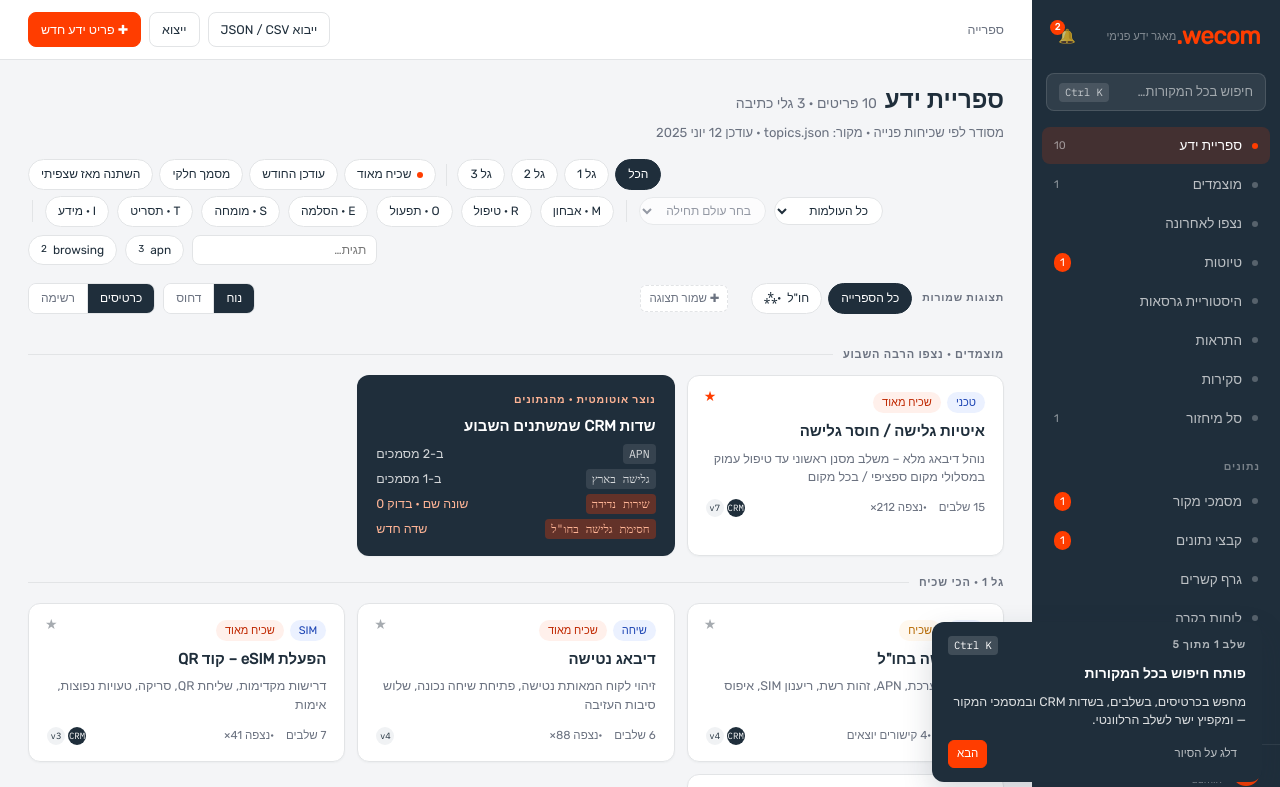
it: <Palette> result rows › renders the library card’s chips on a hit, and no ingest filename anywhere
Type keys "{Control>}k{/Control}"
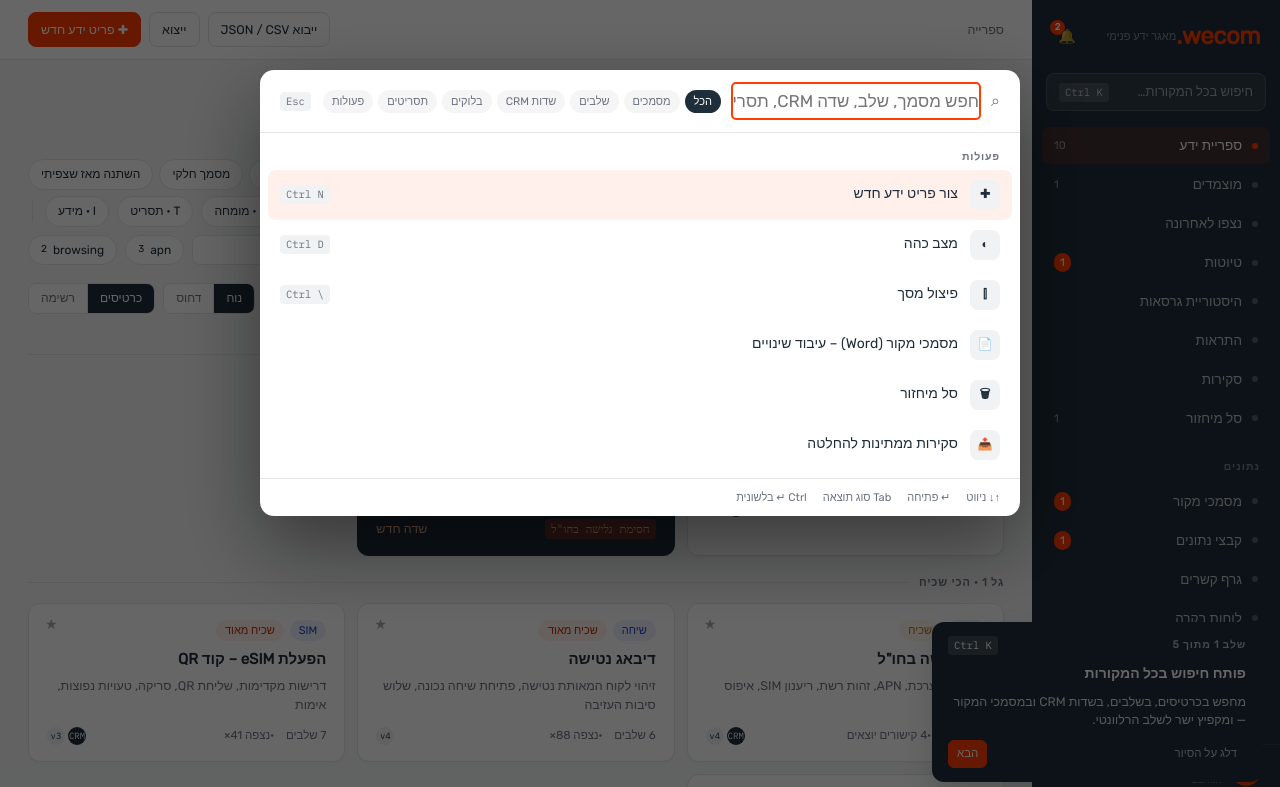
Type "ריענון sim" into the field with placeholder "חפש מסמך, שלב, שדה CRM, תסריט או פעולה…". click: x=856, y=101
box: x1=733 y1=84 x2=979 y2=118
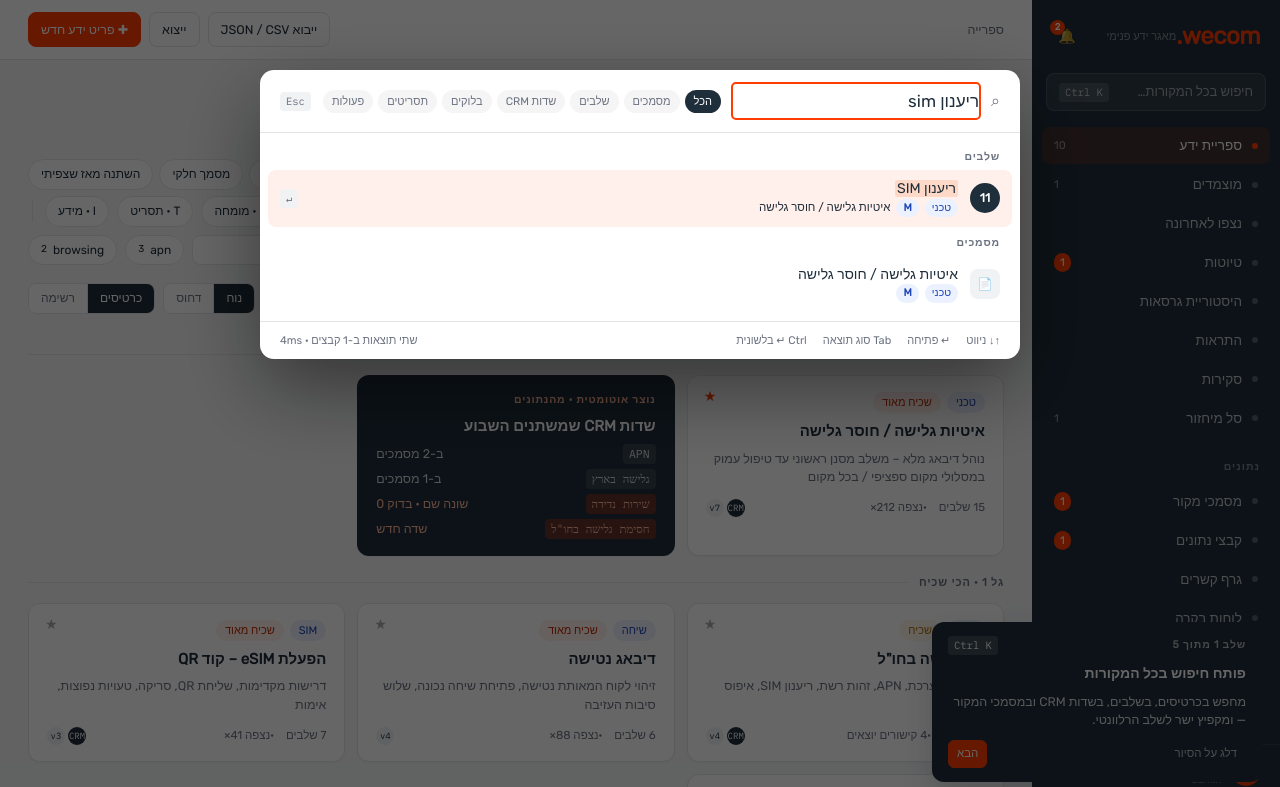
Expected: the button "11 ריענון SIM טכני M איטיות גלישה / חוסר גלישה ↵" is shown, x1=268 y1=170 x2=1012 y2=227
Expected: the 1st text "טכני" is shown, x1=925 y1=198 x2=958 y2=217
Expected: the 1st text "איטיות גלישה / חוסר גלישה" is shown, x1=759 y1=200 x2=890 y2=216
